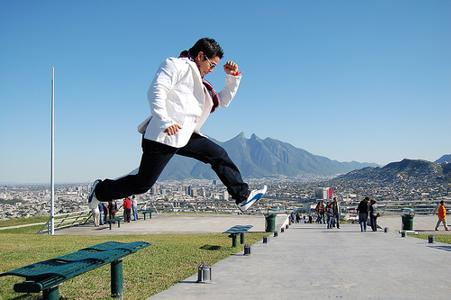person: (88, 37, 268, 214)
